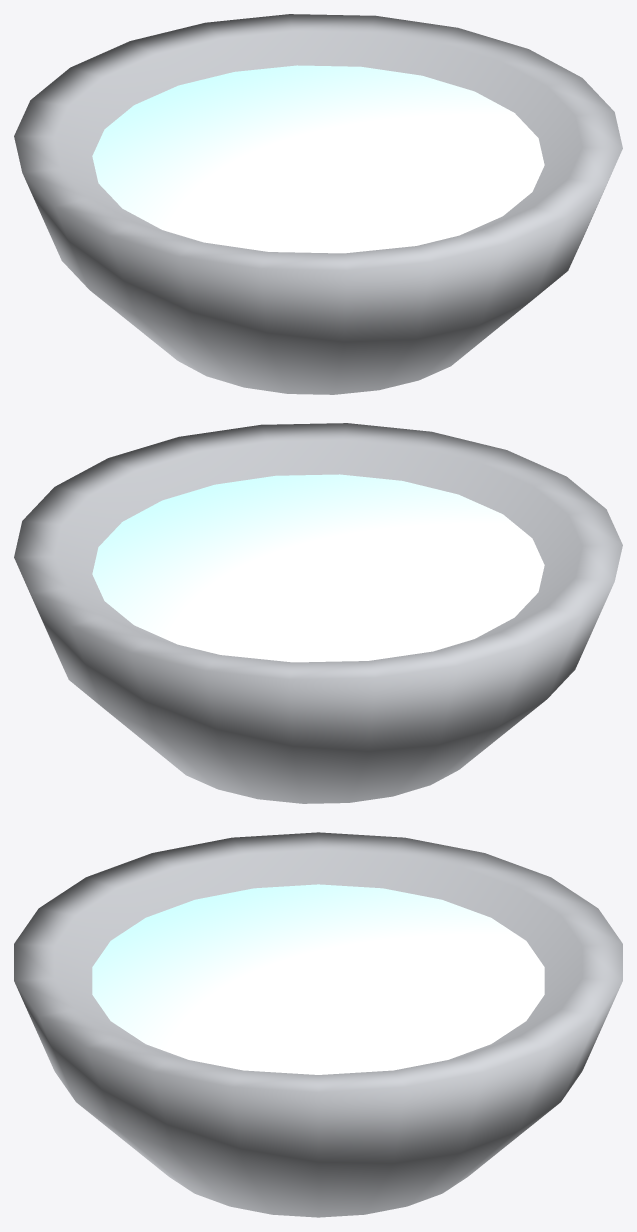
File: orb_scrying_bowl.glb
3 views of the same model, one above another, from view 1: azimuth 30°, elevation 25°; view 2: azimuth 150°, elevation 25°; view 3: azimuth 270°, elevation 25° (orthographic).
Visible parts, largest first — view 1: GD_orb_scrying_bowl__m0, GD_orb_scrying_bowl__m1; view 2: GD_orb_scrying_bowl__m0, GD_orb_scrying_bowl__m1; view 3: GD_orb_scrying_bowl__m0, GD_orb_scrying_bowl__m1.
Boxes of the visible parts, x1,y1,x2,y2 form: GD_orb_scrying_bowl__m0: [14, 14, 622, 394]; GD_orb_scrying_bowl__m1: [92, 65, 544, 253]; GD_orb_scrying_bowl__m0: [14, 423, 622, 803]; GD_orb_scrying_bowl__m1: [92, 474, 544, 662]; GD_orb_scrying_bowl__m0: [14, 832, 622, 1217]; GD_orb_scrying_bowl__m1: [92, 884, 544, 1074].
Bounding box in the file's own units: 0.3 × 0.1 × 0.2969.
